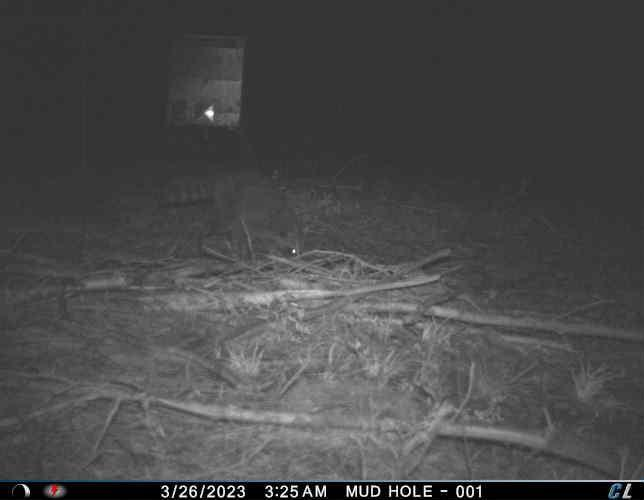Raccoon: (171, 171, 310, 261)
